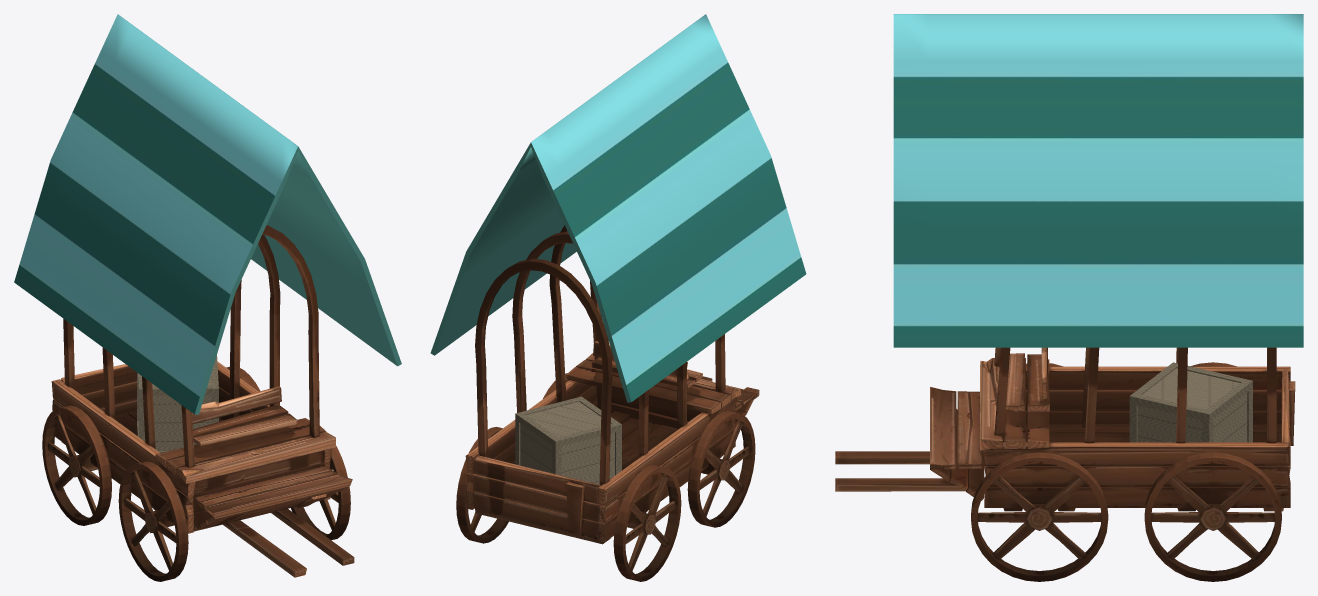
Rendered from opus55_t02.glb.
3 renders of one model, left to right at view 1: azimuth 30°, elevation 25°; view 2: azimuth 150°, elevation 25°; view 3: azimuth 270°, elevation 25°, orthographic. The views are drawn at different scales.
Visible parts, largest first — view 1: slot_canopy_peaked, slot_anchor_frame, slot_front_wheels, slot_bed_crate; view 2: slot_canopy_peaked, slot_anchor_frame, slot_bed_crate, slot_front_wheels; view 3: slot_canopy_peaked, slot_anchor_frame, slot_bed_crate, slot_front_wheels.
Part boxes in pixels (box(x1,y1,x2,y2)): slot_canopy_peaked: box(14, 14, 401, 414); slot_anchor_frame: box(42, 225, 354, 577); slot_front_wheels: box(118, 426, 350, 581); slot_bed_crate: box(137, 355, 218, 452); slot_canopy_peaked: box(430, 14, 806, 402); slot_anchor_frame: box(456, 225, 759, 581); slot_bed_crate: box(515, 396, 621, 484); slot_front_wheels: box(543, 373, 755, 527); slot_canopy_peaked: box(893, 14, 1303, 347); slot_anchor_frame: box(835, 347, 1295, 581); slot_bed_crate: box(1129, 362, 1252, 442); slot_front_wheels: box(971, 363, 1108, 581).
Size of the model in its own units: 1.16 by 2.45 by 2.
Materials: 5 (4 with a texture image).
